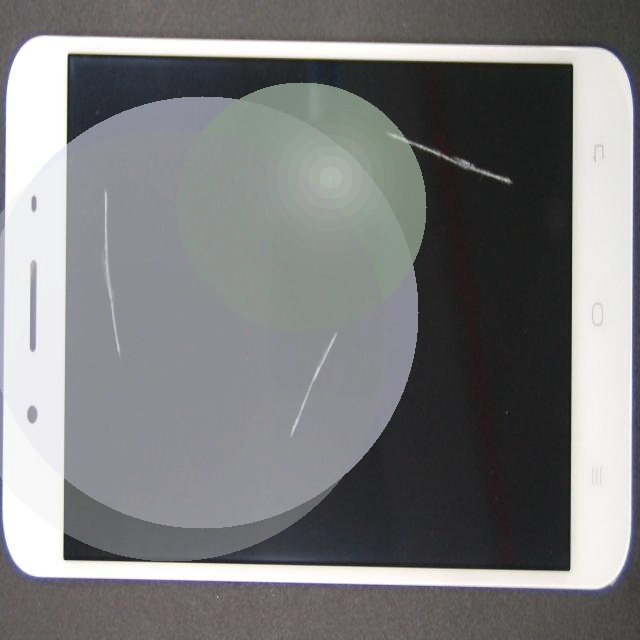scratch: (199, 79, 474, 529), (337, 120, 640, 232), (76, 200, 180, 365)
